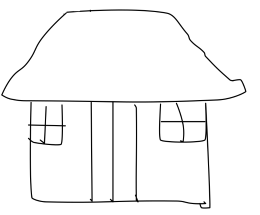big_house: (0, 1, 260, 215)
closed_window: (155, 96, 212, 149), (25, 97, 76, 153)
door: (86, 91, 144, 207)
roof: (0, 5, 251, 108)
wall: (25, 88, 220, 212)
